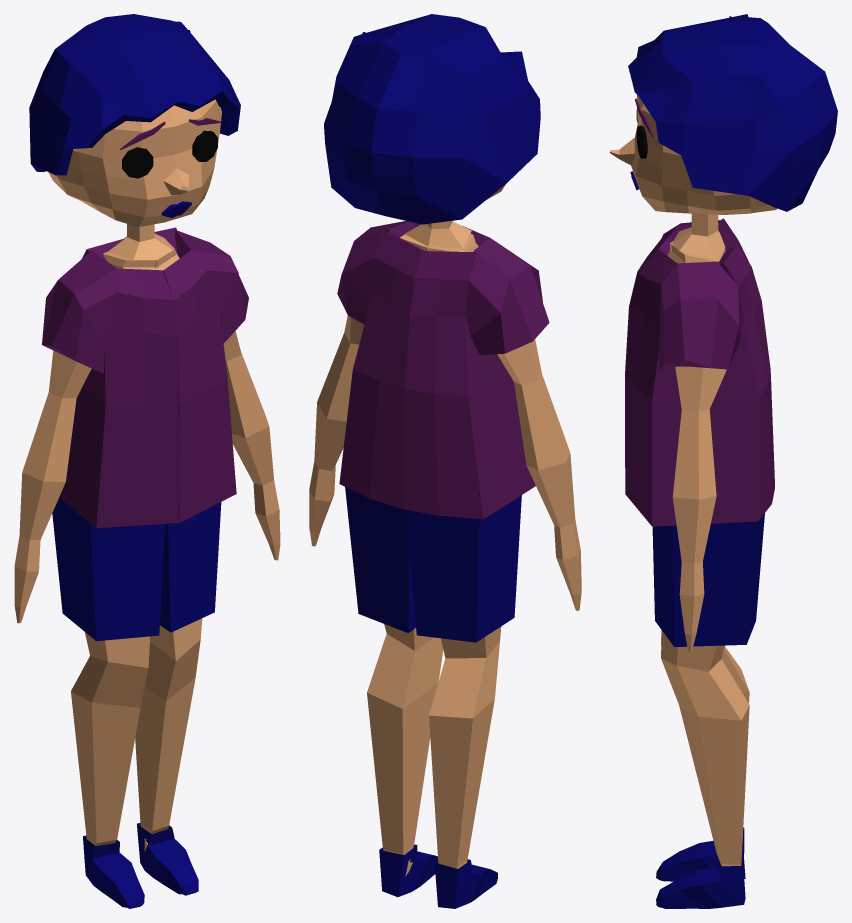
File: secondCharacter.fbx
The picture shows the model from 3 angles, left to right: view 1: azimuth 30°, elevation 25°; view 2: azimuth 150°, elevation 25°; view 3: azimuth 270°, elevation 25°; orthographic projection. The views are drawn at different scales.
Visible parts, largest first — view 1: teeshirt, body, hair, shorts, arm, head.001, body.002, neck, eye; view 2: teeshirt, hair, body, shorts, arm, body.002, neck; view 3: teeshirt, hair, body, shorts, arm, head.001, body.002, neck.
Boxes of the visible parts, x1,y1,x2,y2 form: teeshirt: (42,227,248,528); body: (71,239,202,851); hair: (29,14,240,175); shorts: (52,497,221,641); arm: (14,331,280,623); head.001: (48,99,221,227); body.002: (83,823,198,908); neck: (108,224,172,260); eye: (122,130,217,178); teeshirt: (337,221,549,519); hair: (324,14,540,224); body: (367,232,501,876); shorts: (342,460,521,642); arm: (309,315,581,610); body.002: (379,844,497,908); neck: (405,220,471,248); teeshirt: (625,218,774,526); hair: (628,14,837,211); body: (661,231,749,866); shorts: (652,495,764,646); arm: (672,366,726,651); head.001: (631,95,776,214); body.002: (656,827,745,908); neck: (672,213,723,257).
Size of the model in its own units: 126 by 383 by 92.03.
